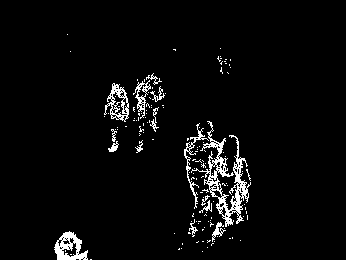person: (211, 133, 254, 241), (186, 119, 217, 237), (135, 73, 162, 152), (105, 80, 128, 152)
